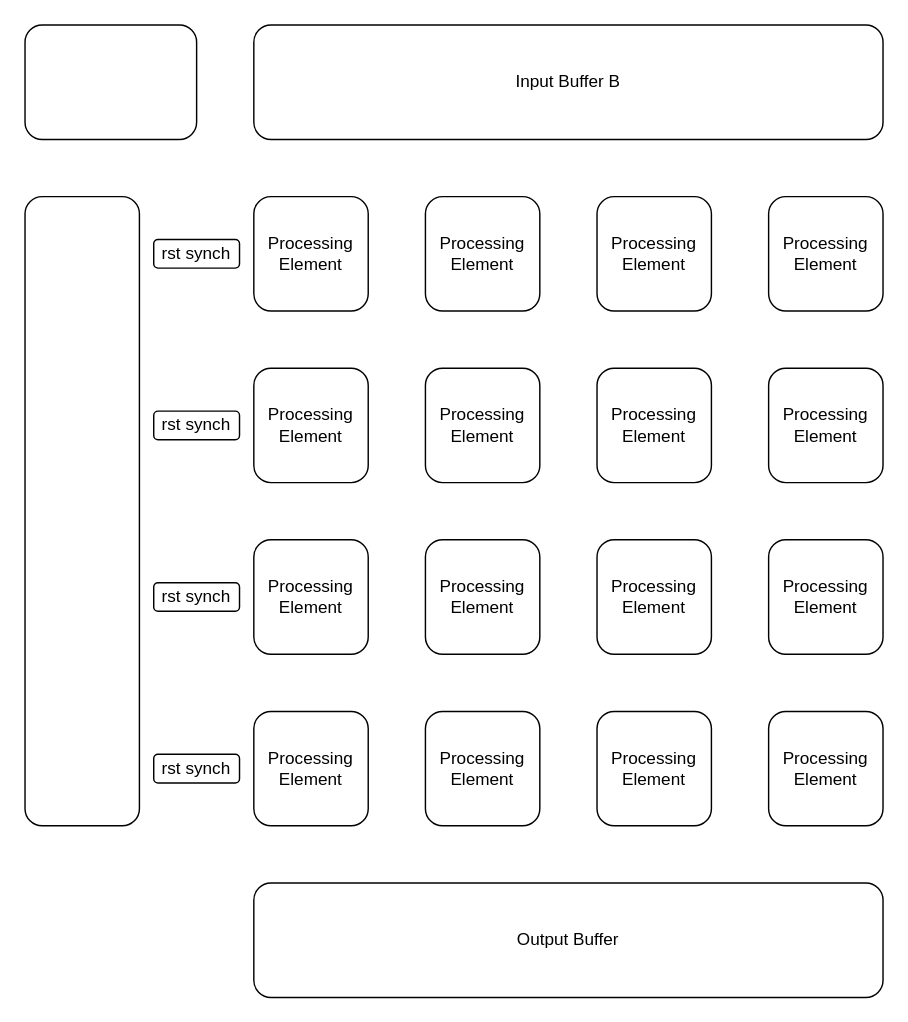
The diagram is 908 pixels wide and 1022 high, and some of its shapes have lost their labels. The shapes that lost their labels are listed below. From the top down, each one's centre as x and y in pixels, then its label:
point (110, 81): Controller
point (81, 510): Input Buffer A
